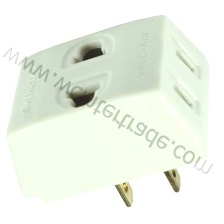three_eye_plug: (2, 10, 212, 210)
